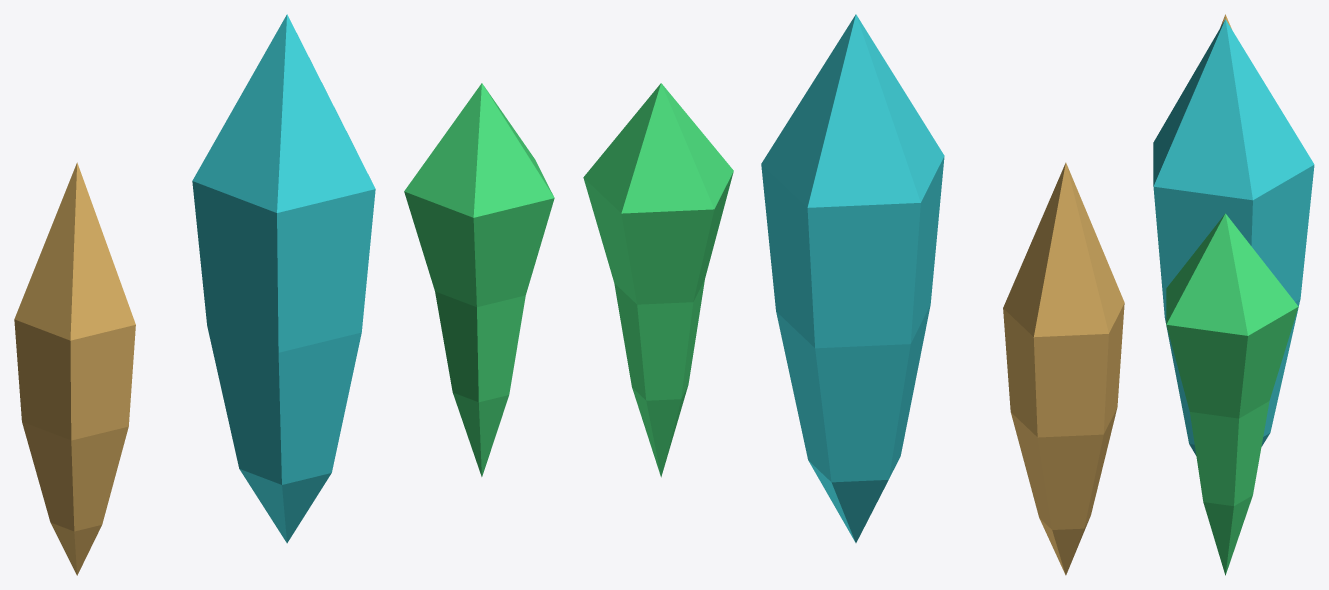
The model's file is individualcrystal.fbx.
3 views of the same model, side by side, from view 1: azimuth 30°, elevation 25°; view 2: azimuth 150°, elevation 25°; view 3: azimuth 270°, elevation 25° (orthographic). The views are drawn at different scales.
Visible parts, largest first — view 1: Cylinder, Cylinder.002, Cylinder.001; view 2: Cylinder, Cylinder.002, Cylinder.001; view 3: Cylinder, Cylinder.001.
Boxes of the visible parts, x1=… form: Cylinder: x1=192, y1=14, x2=375, y2=543; Cylinder.002: x1=14, y1=162, x2=135, y2=575; Cylinder.001: x1=404, y1=83, x2=554, y2=476; Cylinder: x1=761, y1=14, x2=944, y2=542; Cylinder.002: x1=1003, y1=162, x2=1124, y2=575; Cylinder.001: x1=583, y1=83, x2=733, y2=477; Cylinder: x1=1153, y1=19, x2=1314, y2=455; Cylinder.001: x1=1166, y1=213, x2=1298, y2=575.
Bounding box in the file's own units: 467 × 452 × 136.
